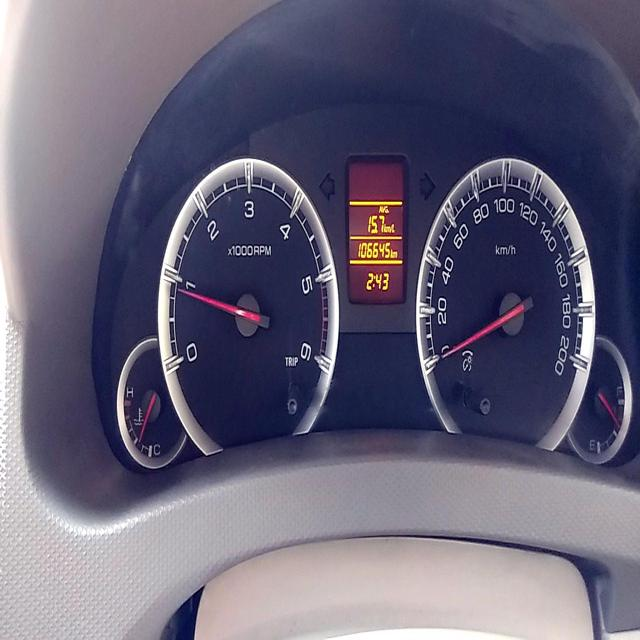odometer: (356, 240, 391, 261)
